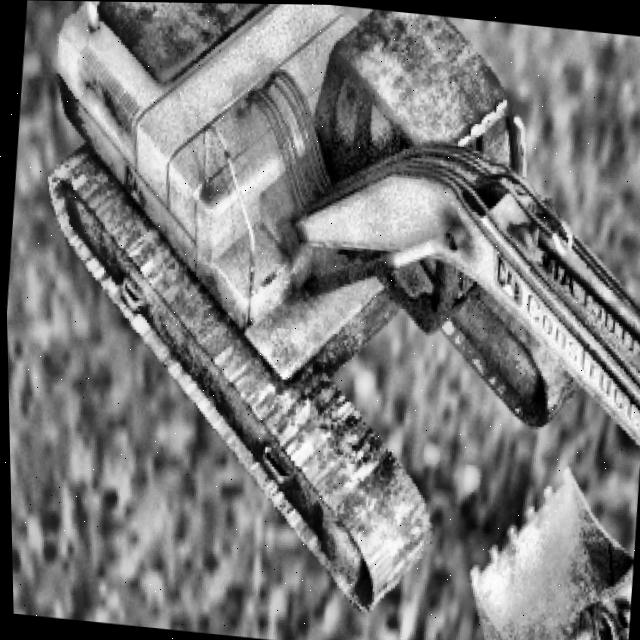excavator: (3, 0, 640, 640)
